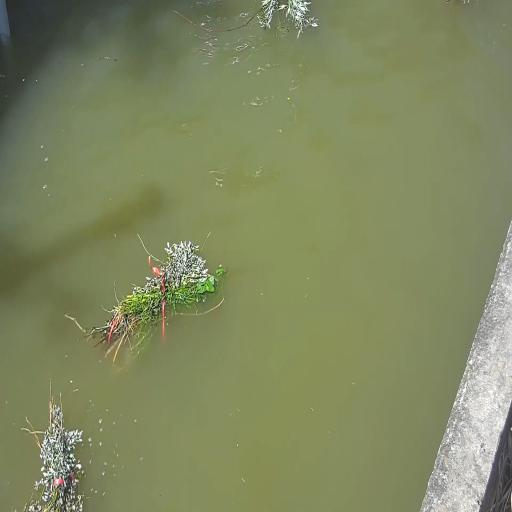twig: (77, 234, 225, 360), (19, 377, 87, 511), (254, 0, 317, 40)
